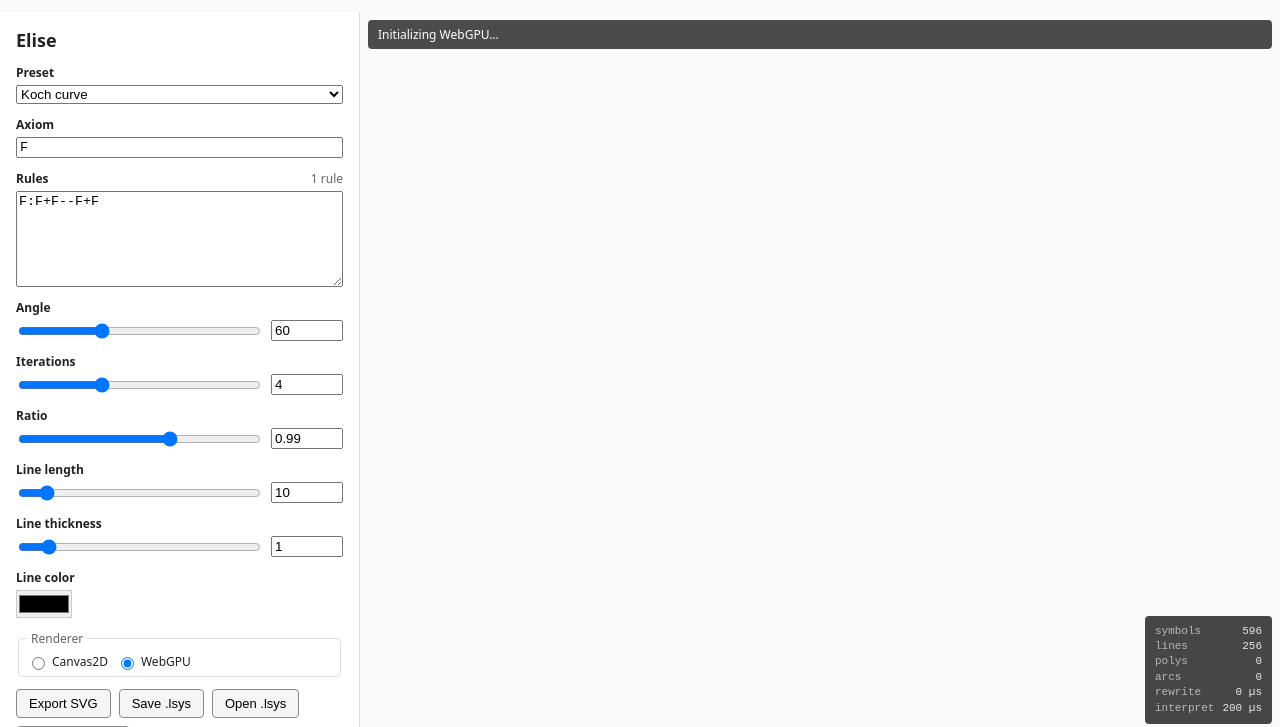
Test case: App › backend toggle swaps WebGPU for Canvas2D; WebGPU is the default and reports unsupported in jsdom
The width and height of the screenshot is (1280, 727).
Expected: the drawing with test id "lsystem-webgpu-canvas" is shown, [360, 12, 660, 162]
Expected: the message shows "WebGPU", [378, 26, 499, 43]
Click the radio button labelled "Canvas2D" at point(38, 663), box [32, 656, 45, 670]
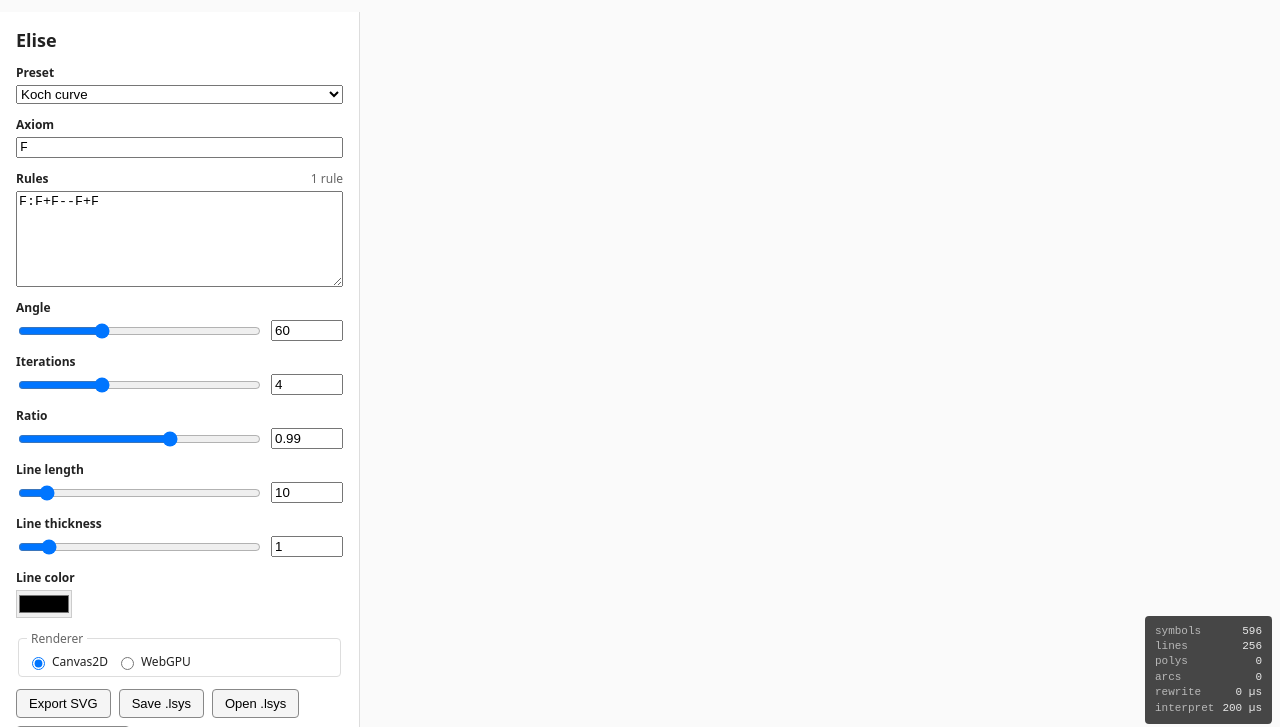
Expected: the drawing with test id "lsystem-webgpu-canvas" is gone
Expected: the drawing with test id "lsystem-canvas" is shown, [360, 12, 960, 612]
